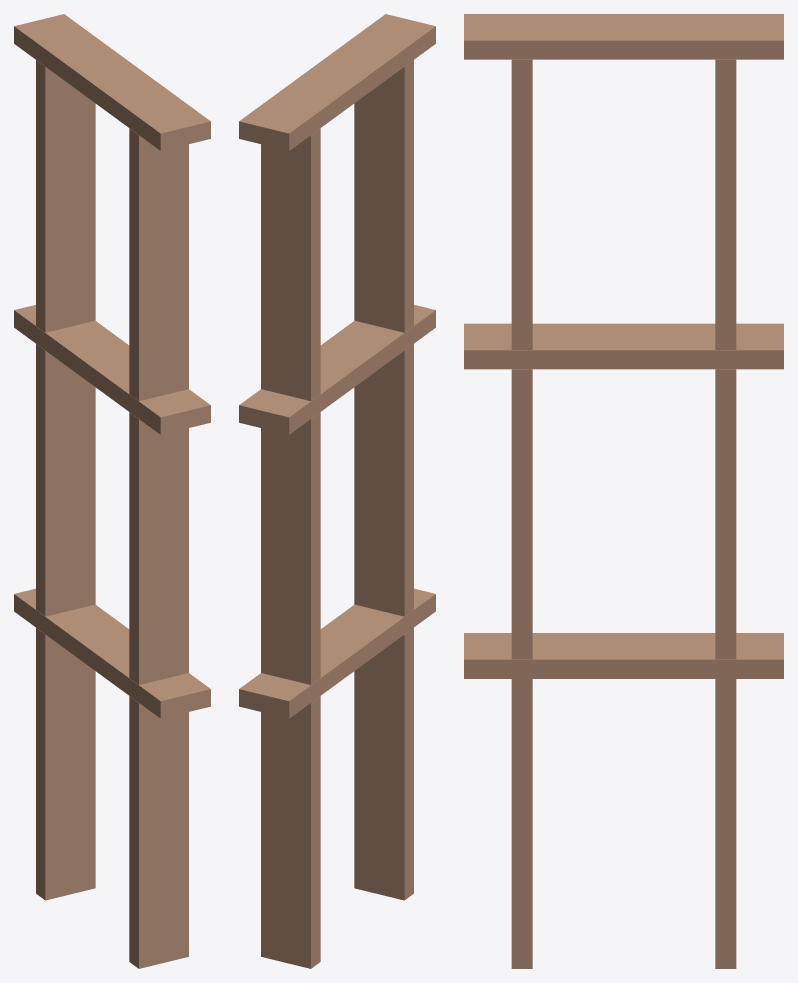
The model's file is keva_triple_pi_structure.dae.
The picture shows the model from 3 angles, left to right: view 1: azimuth 30°, elevation 25°; view 2: azimuth 150°, elevation 25°; view 3: azimuth 270°, elevation 25°; orthographic projection. The views are drawn at different scales.
Visible parts, largest first — view 1: base (×9); view 2: base (×9); view 3: base (×9).
Boxes of the visible parts, bbox=[...] form: base (×9): bbox=[14, 14, 210, 968]; base (×9): bbox=[239, 14, 435, 968]; base (×9): bbox=[464, 14, 783, 968].
Size of the model in its own units: 0.0232 by 0.1177 by 0.3768.
